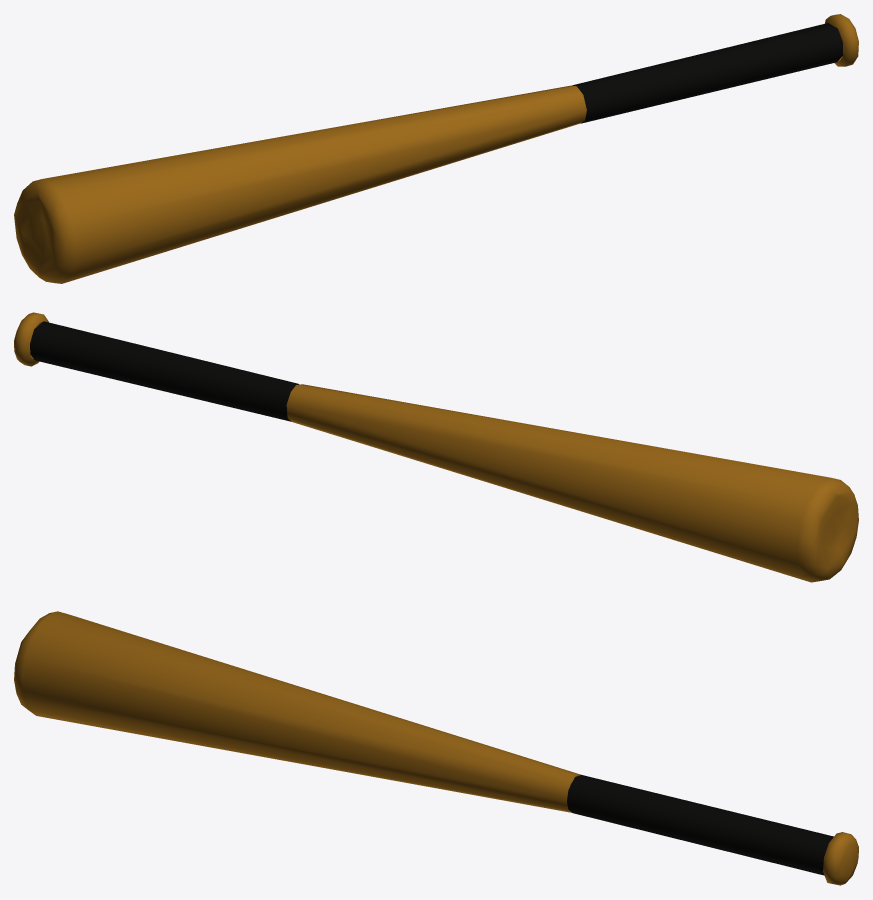
The model's file is Baseballschläger.fbx.
3 views of the same model, one above another, from view 1: azimuth 30°, elevation 25°; view 2: azimuth 150°, elevation 25°; view 3: azimuth 330°, elevation 25° (orthographic).
Parts seen in each view (by area): view 1: Sphere, Sphere.001; view 2: Sphere, Sphere.001; view 3: Sphere, Sphere.001.
Part boxes in pixels (<box>): Sphere: <box>14,14,858,283</box>; Sphere.001: <box>572,23,843,123</box>; Sphere: <box>14,312,858,582</box>; Sphere.001: <box>30,321,299,421</box>; Sphere: <box>14,611,858,885</box>; Sphere.001: <box>567,775,833,875</box>.
Size of the model in its own units: 371 by 42.22 by 42.25.
